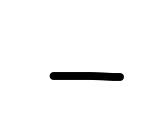minus: (50, 72, 124, 81)
